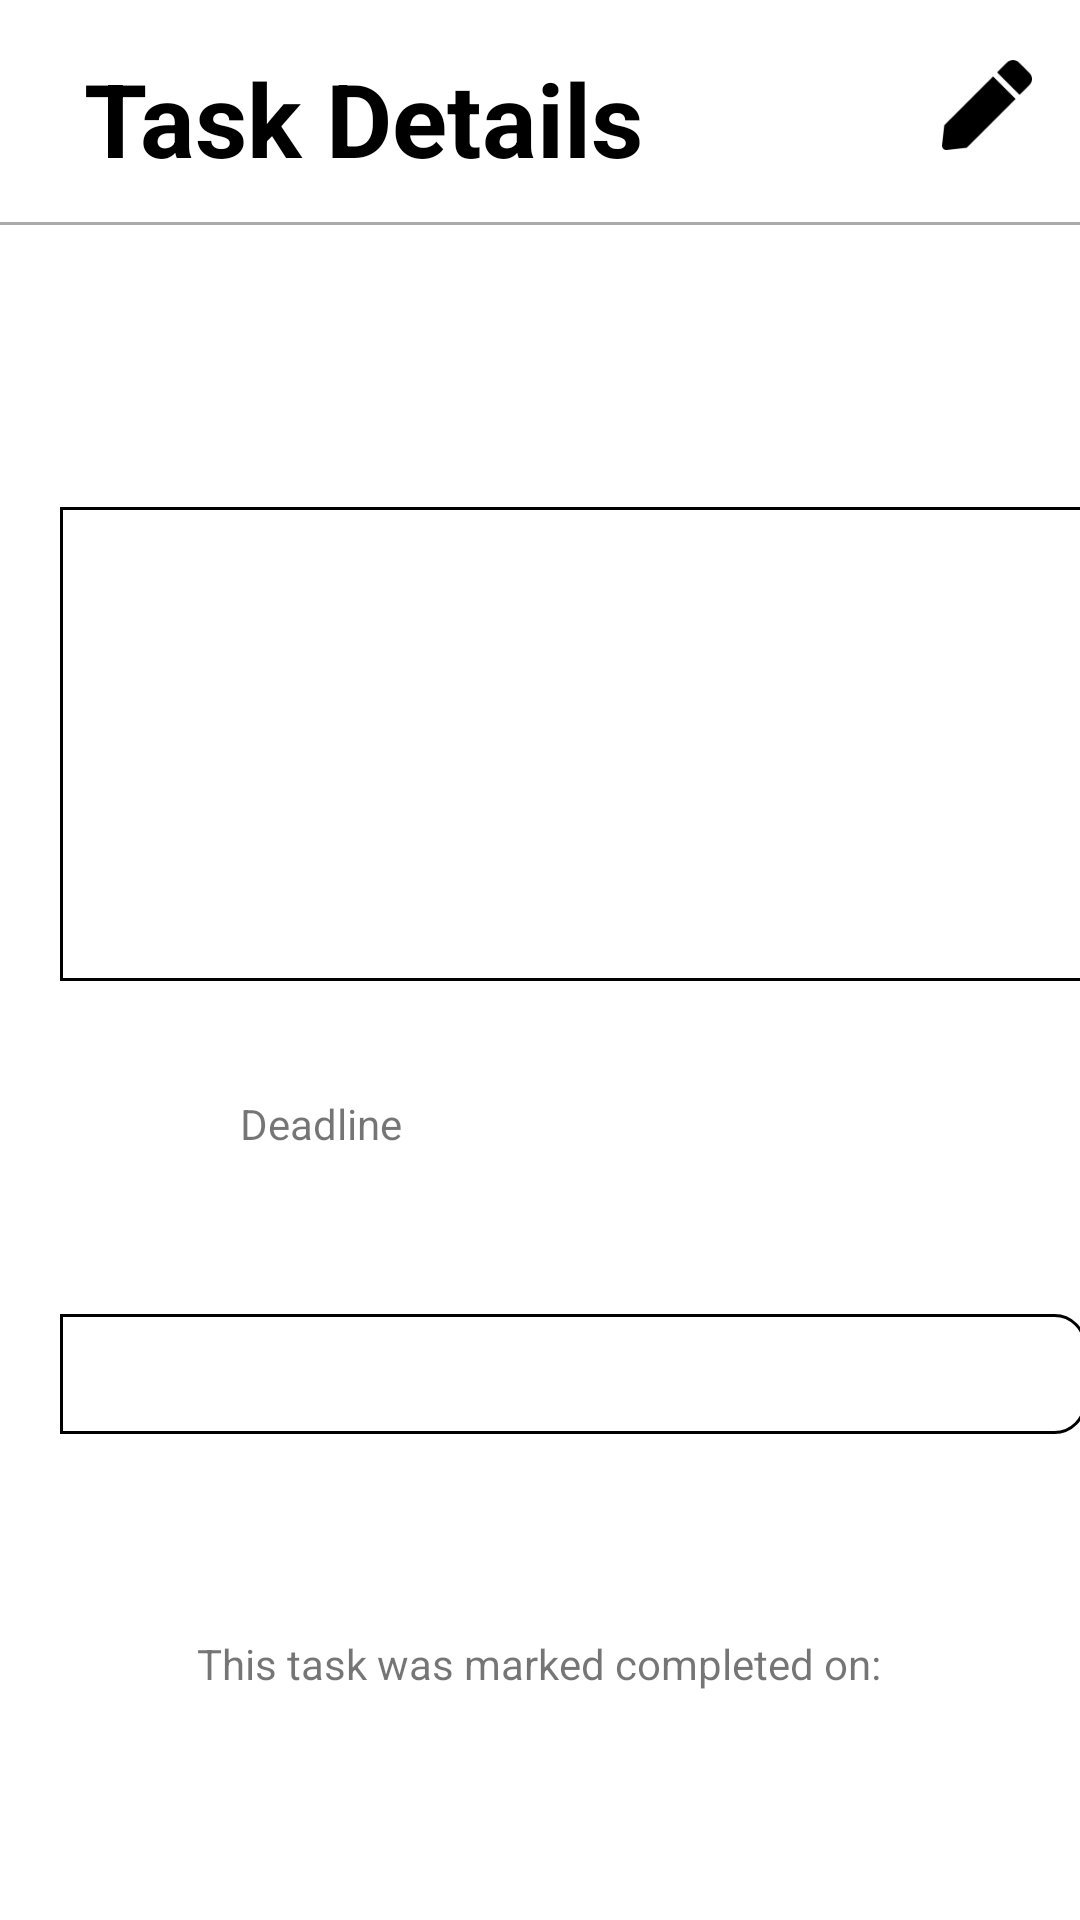

Icons on this 1080x1920 Android screen, each with the point to tap as (x,y):
pen: (987,105)
